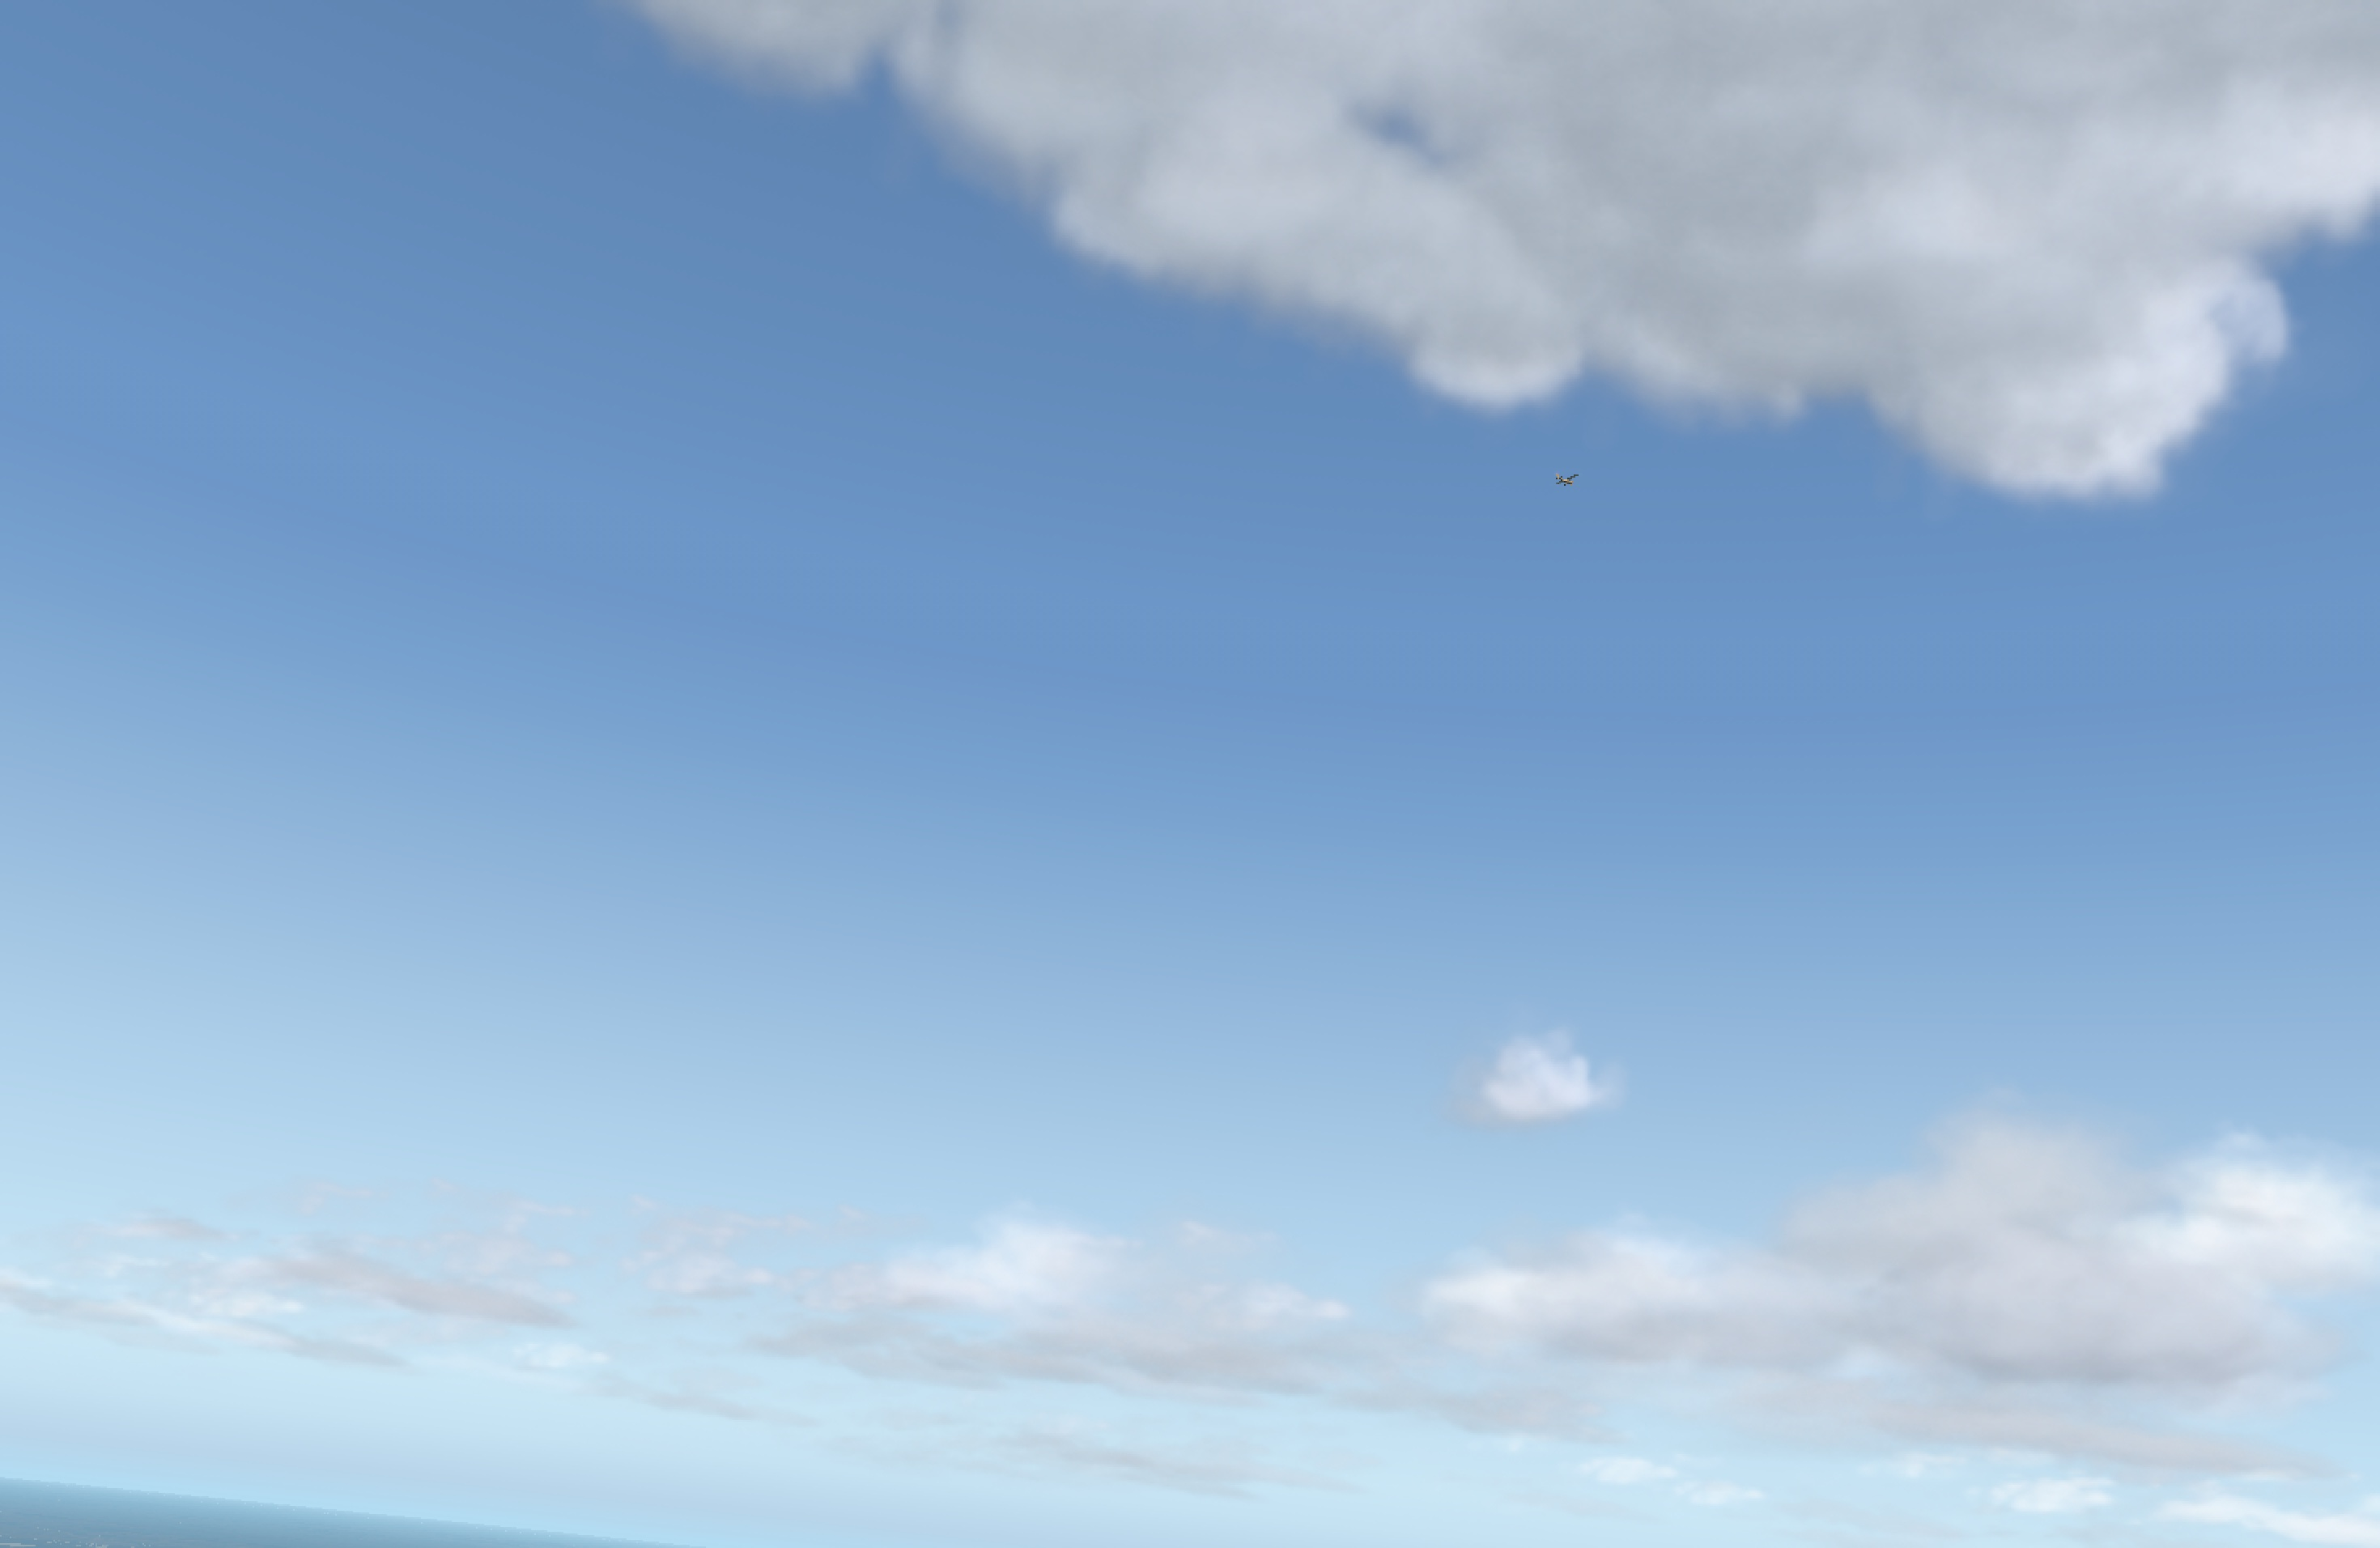aircraft: (1558, 477, 1579, 486)
